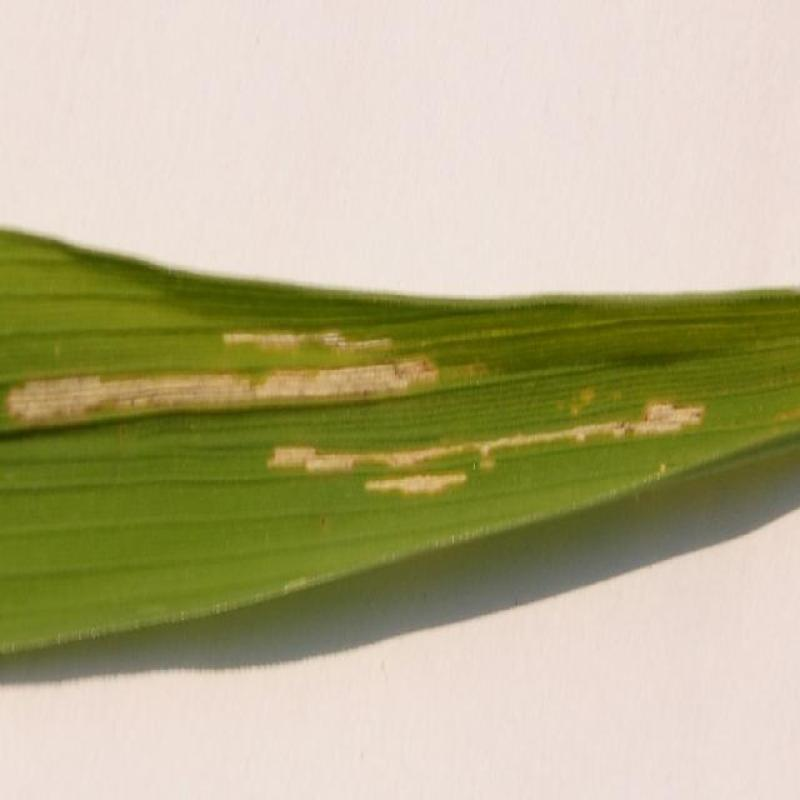Bacterial_Leaf_Blight: (0, 211, 800, 660)
